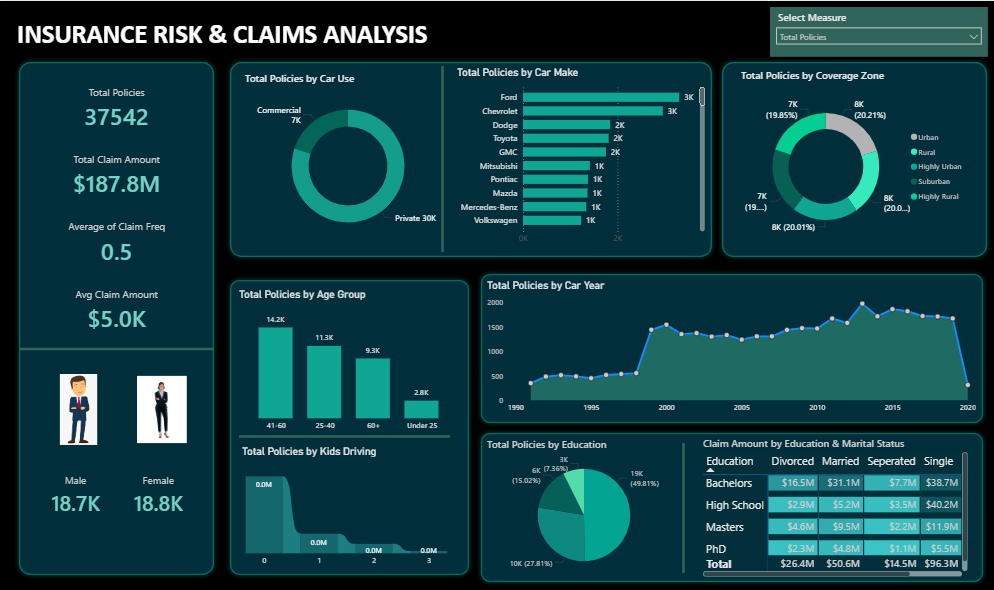

This screenshot's page, from the dashboard's own definition file:
{"tool":"powerbi","page":{"name":"Page 1","canvas":[1600,950],"ordinal":0},"visuals":[{"type":"textbox","box":[22.5,20.9,677.9,69.1],"z":0},{"type":"shape","box":[22.5,90,329.3,840.2],"z":1000},{"type":"cardVisual","fields":{"Data":["insurance_data_car.Total Policies","insurance_data_car.Total Claim Amount","Avg(insurance_data_car.Claim Freq)","insurance_data_car.Avg Claim Amount"]},"box":[53,104.4,269.9,459.4],"z":2000},{"type":"cardVisual","fields":{"Data":["insurance_data_car.Male Count","insurance_data_car.Female Count"]},"box":[41.8,747,292.4,91.6],"z":2001},{"type":"image","box":[220.1,599.2,80.3,114.1],"z":2003},{"type":"image","box":[93.2,599.2,65.9,114.1],"z":2004},{"type":"slicer","fields":{"Values":["Select Measure.Select Measure"]},"box":[1236.9,9.6,350.2,80.3],"z":2005},{"type":"shape","box":[361.4,90,790.4,329.3],"z":2006},{"type":"donutChart","fields":{"Category":["insurance_data_car.Car Use"],"Y":["insurance_data_car.Total Policies"]},"box":[388.8,112.4,340.6,284.3],"z":2007},{"type":"clusteredBarChart","fields":{"Category":["insurance_data_car.Car Make"],"Y":["insurance_data_car.Total Policies"]},"box":[729.3,104.4,408,295.6],"z":2008},{"type":"shape","box":[1151.8,90,441.8,329.3],"z":2009},{"type":"donutChart","fields":{"Y":["insurance_data_car.Total Policies"],"Category":["insurance_data_car.Coverage Zone"]},"box":[1185.5,107.6,374.3,295.6],"z":2010},{"type":"shape","box":[361.4,440.2,400,490],"z":2011},{"type":"clusteredColumnChart","fields":{"Y":["insurance_data_car.Total Policies"],"Category":["insurance_data_car.Age Group"]},"box":[379.1,461,364.7,239.4],"z":2012},{"type":"ribbonChart","fields":{"Category":["insurance_data_car.Kids Driving"],"Y":["insurance_data_car.Total Policies"]},"box":[383.9,713.3,345.4,204],"z":2013},{"type":"shape","box":[764.7,430.5,822.5,255.4],"z":2014},{"type":"areaChart","fields":{"Category":["insurance_data_car.Car Year"],"Y":["insurance_data_car.Total Policies"]},"box":[777.5,446.6,795.2,224.9],"z":2015},{"type":"shape","box":[764.7,685.9,822.5,255.4],"z":2016},{"type":"pieChart","fields":{"Category":["insurance_data_car.Education"],"Y":["insurance_data_car.Total Policies"]},"box":[777.5,700.4,321.3,229.7],"z":2017},{"type":"pivotTable","title":"Claim Amount by Education & Marital Status","fields":{"Rows":["insurance_data_car.Education"],"Columns":["insurance_data_car.Marital Status"],"Values":["insurance_data_car.Total Claim Amount"]},"box":[1124.5,698.8,435.3,231.3],"z":2018},{"type":"shape","box":[657,104.4,107.6,298.8],"z":2019},{"type":"shape","box":[1044.2,710,107.6,208.8],"z":2020},{"type":"shape","box":[383.9,605.6,339,188],"z":2021},{"type":"shape","box":[32.1,522.1,311.6,73.9],"z":2022}]}

Visuals, with their boxes in screenshot pixels (x1, y1, x2, y2), scaled from the page's 1600x950 canvas onto the 994x590 screenshot:
textbox: (x1=14, y1=13, x2=435, y2=56)
shape: (x1=14, y1=56, x2=219, y2=578)
cardVisual - insurance_data_car.Total Policies x insurance_data_car.Total Claim Amount: (x1=33, y1=65, x2=201, y2=350)
cardVisual - insurance_data_car.Male Count x insurance_data_car.Female Count: (x1=26, y1=464, x2=208, y2=521)
image: (x1=137, y1=372, x2=187, y2=443)
image: (x1=58, y1=372, x2=99, y2=443)
slicer - Select Measure.Select Measure: (x1=768, y1=6, x2=986, y2=56)
shape: (x1=225, y1=56, x2=716, y2=260)
donutChart - insurance_data_car.Car Use x insurance_data_car.Total Policies: (x1=242, y1=70, x2=453, y2=246)
clusteredBarChart - insurance_data_car.Car Make x insurance_data_car.Total Policies: (x1=453, y1=65, x2=707, y2=248)
shape: (x1=716, y1=56, x2=990, y2=260)
donutChart - insurance_data_car.Total Policies x insurance_data_car.Coverage Zone: (x1=736, y1=67, x2=969, y2=250)
shape: (x1=225, y1=273, x2=473, y2=578)
clusteredColumnChart - insurance_data_car.Total Policies x insurance_data_car.Age Group: (x1=236, y1=286, x2=462, y2=435)
ribbonChart - insurance_data_car.Kids Driving x insurance_data_car.Total Policies: (x1=238, y1=443, x2=453, y2=570)
shape: (x1=475, y1=267, x2=986, y2=426)
areaChart - insurance_data_car.Car Year x insurance_data_car.Total Policies: (x1=483, y1=277, x2=977, y2=417)
shape: (x1=475, y1=426, x2=986, y2=585)
pieChart - insurance_data_car.Education x insurance_data_car.Total Policies: (x1=483, y1=435, x2=683, y2=578)
"Claim Amount by Education & Marital Status" pivotTable: (x1=699, y1=434, x2=969, y2=578)
shape: (x1=408, y1=65, x2=475, y2=250)
shape: (x1=649, y1=441, x2=716, y2=571)
shape: (x1=238, y1=376, x2=449, y2=493)
shape: (x1=20, y1=324, x2=214, y2=370)
